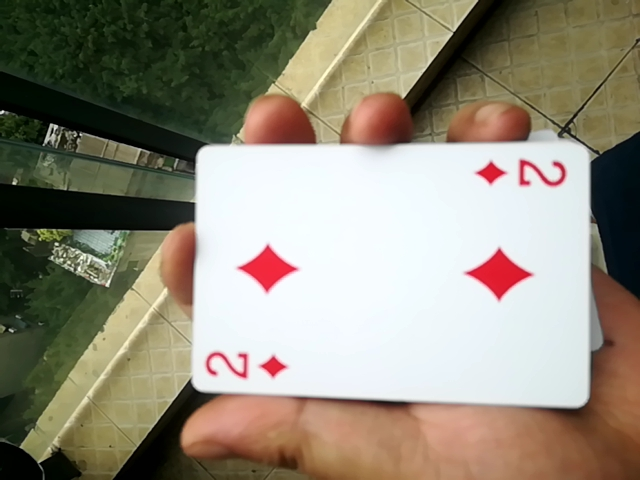fk 2: (174, 138, 586, 415)
